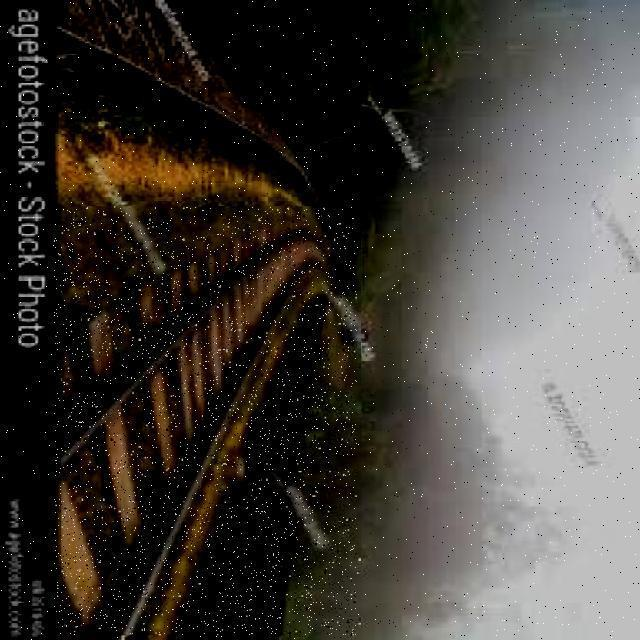rail: (54, 208, 357, 635)
